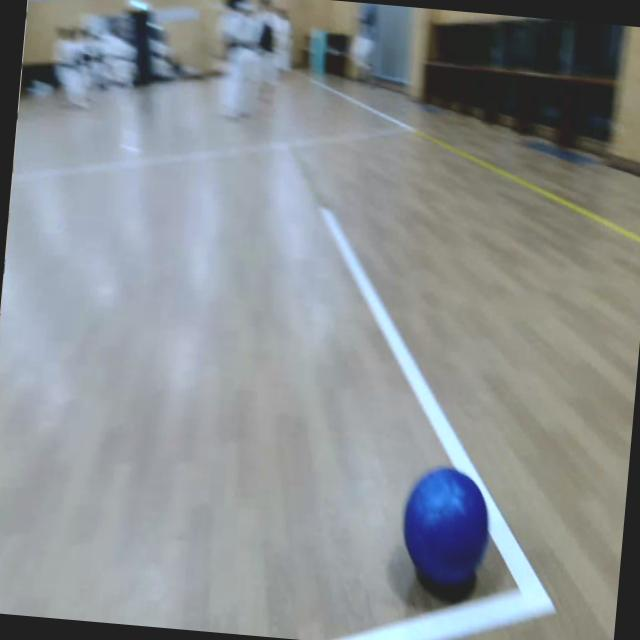blue_ball: (396, 462, 494, 588)
